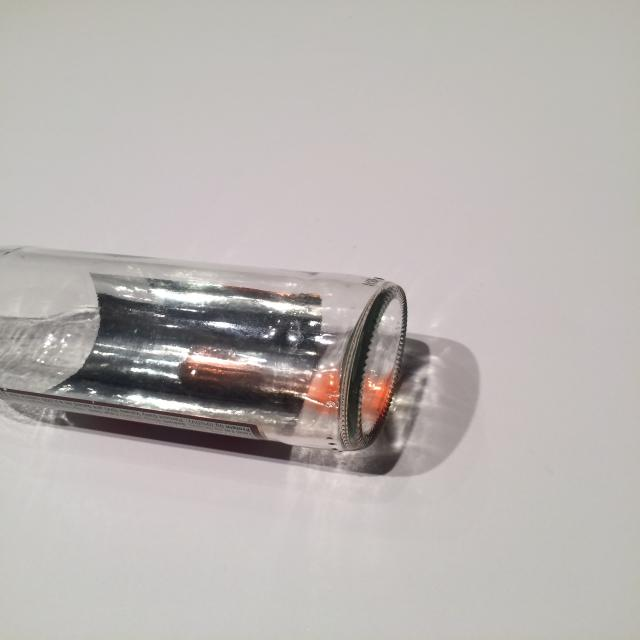glass: (0, 244, 409, 453)
